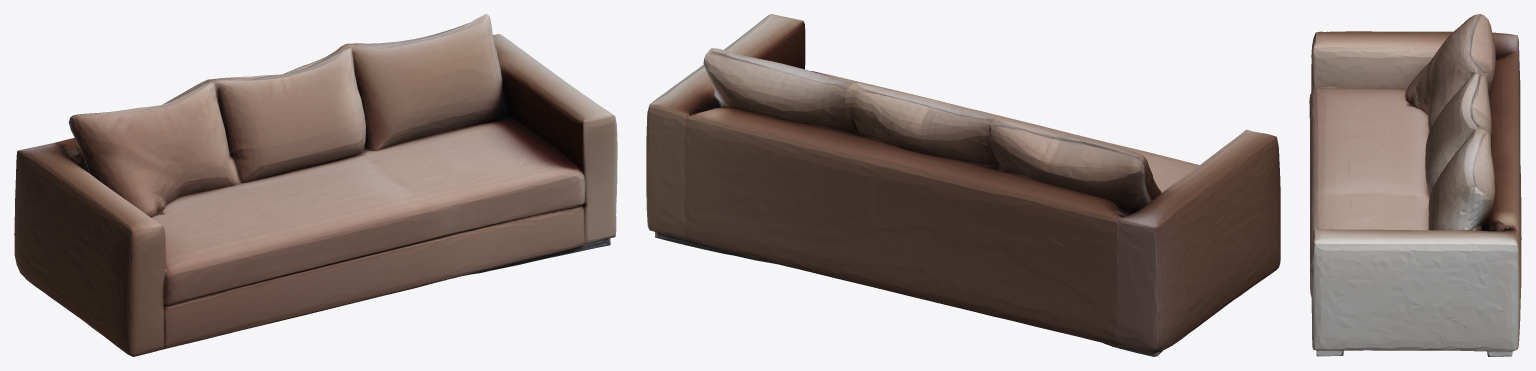
3 renders of one model, left to right at view 1: azimuth 30°, elevation 25°; view 2: azimuth 150°, elevation 25°; view 3: azimuth 270°, elevation 25°, orthographic. The views are drawn at different scales.
Visible parts, largest first — view 1: world; view 2: world; view 3: world.
Part boxes in pixels (x1,y1,x2,y2): world: [14, 14, 617, 356]; world: [646, 14, 1280, 356]; world: [1309, 14, 1521, 356].
Size of the model in its own units: 0.9983 by 0.3373 by 0.4189.
Materials: 1 (1 with a texture image).
